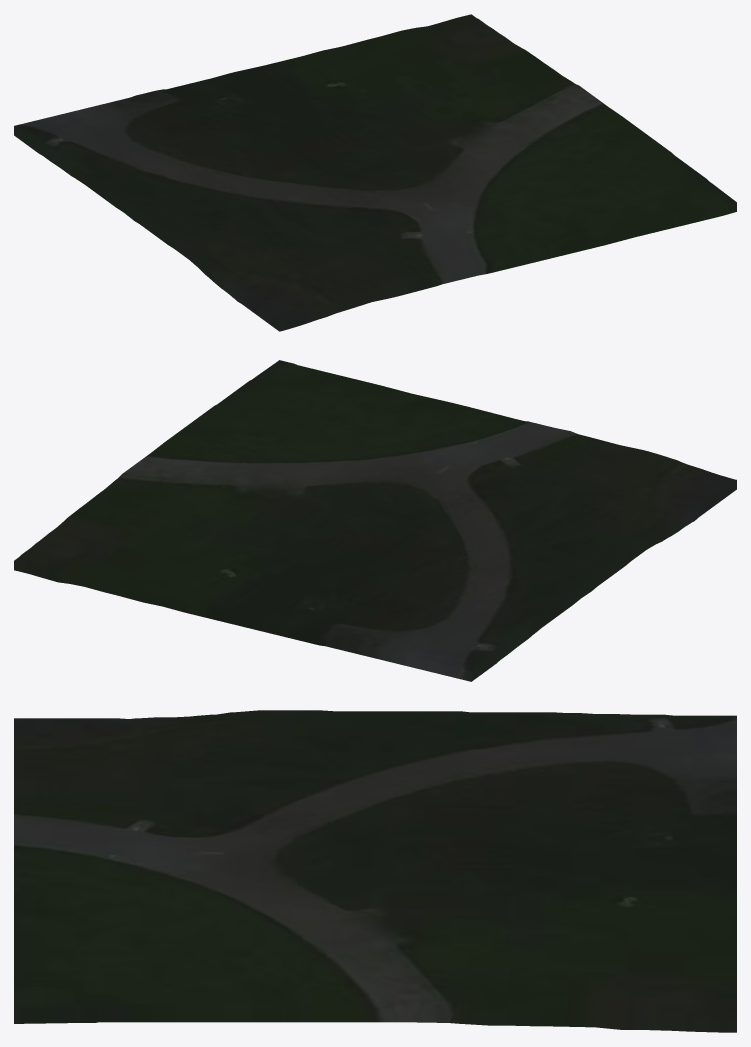
File: z20-167782-405219-h0-yup-uvflip-v3-world.glb
3 renders of one model, top to bottom at view 1: azimuth 30°, elevation 25°; view 2: azimuth 150°, elevation 25°; view 3: azimuth 270°, elevation 25°, orthographic. The views are drawn at different scales.
Size of the model in its own units: 30.16 by 1.28 by 30.32.
1 material, 1 textured.
